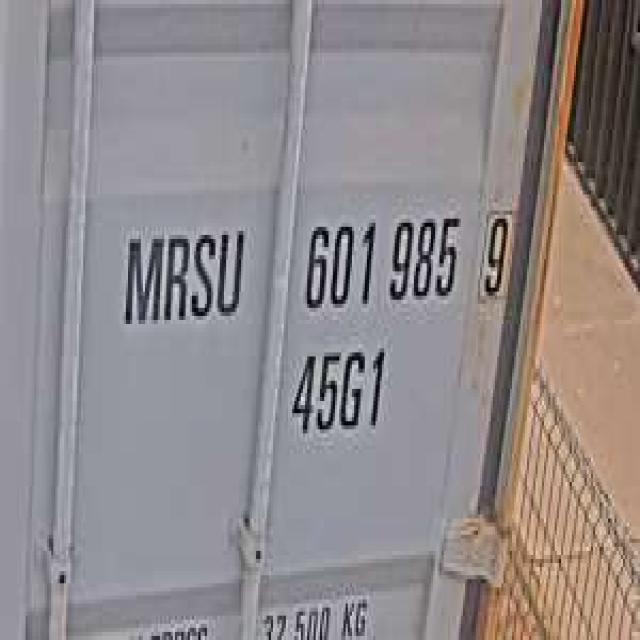dv: (474, 198, 514, 308)
owner: (117, 215, 250, 332)
serial: (299, 198, 463, 320)
size: (286, 336, 390, 446)
